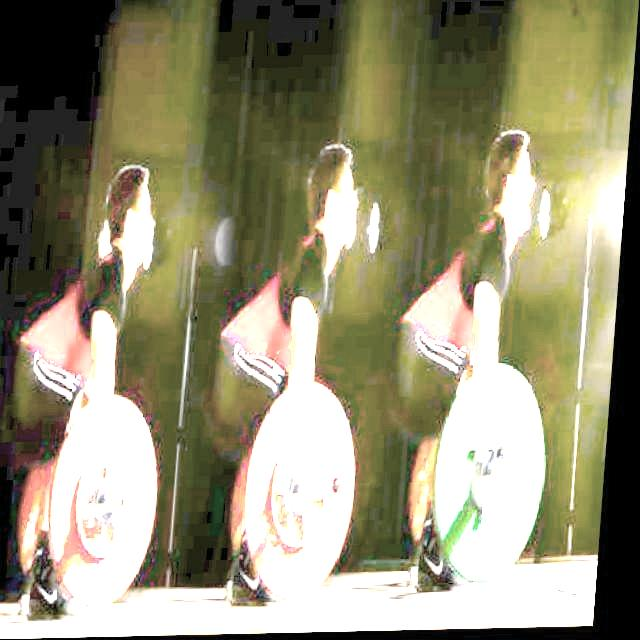barbell: (432, 359, 564, 590), (242, 379, 372, 605), (51, 392, 177, 612)
